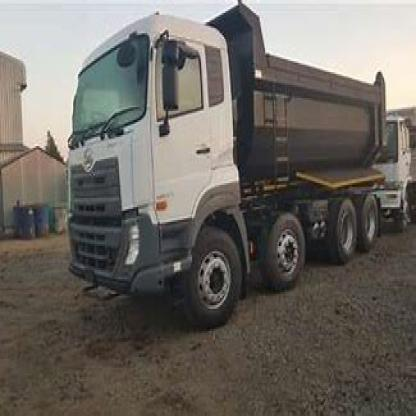dump_truck: (54, 10, 403, 326)
